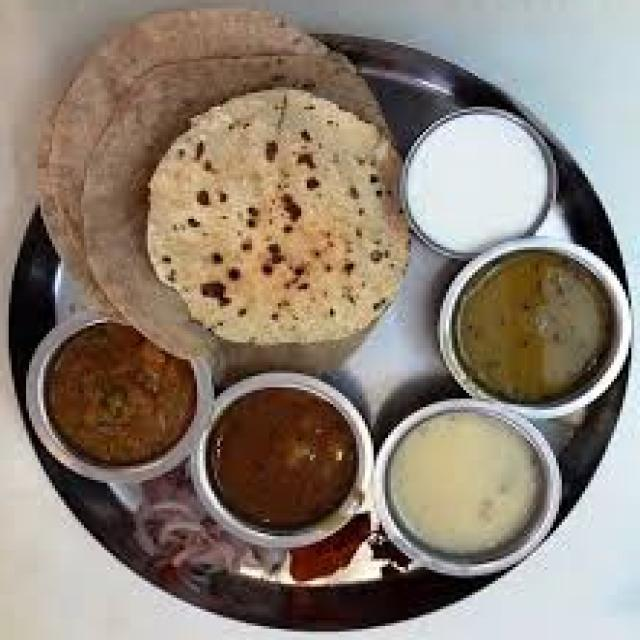curd: (396, 105, 572, 250)
dal: (381, 414, 549, 558)
roti: (142, 98, 406, 354)
sambar-rasam: (199, 379, 369, 547)
